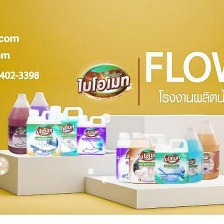cleaning_solution: (113, 131, 157, 183), (126, 131, 168, 185), (44, 104, 86, 158), (5, 91, 38, 156), (23, 106, 62, 159), (22, 89, 55, 147), (191, 118, 221, 180), (152, 136, 189, 186), (176, 125, 205, 184), (73, 113, 109, 157)
